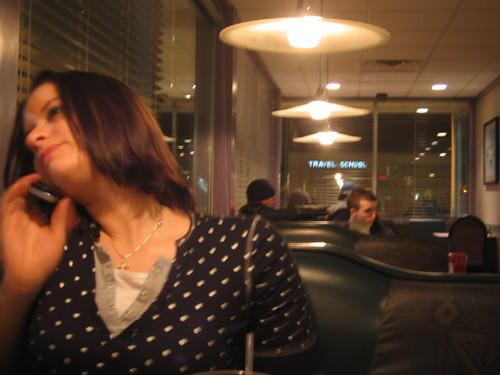phone: (16, 152, 67, 212)
